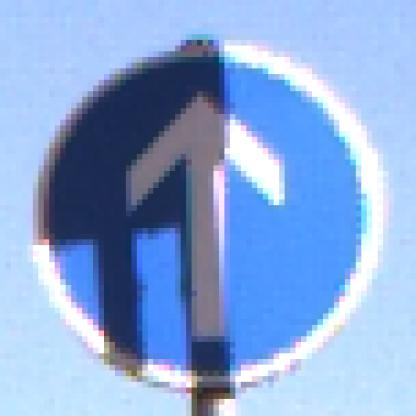AheadOnly: (34, 41, 384, 383)
